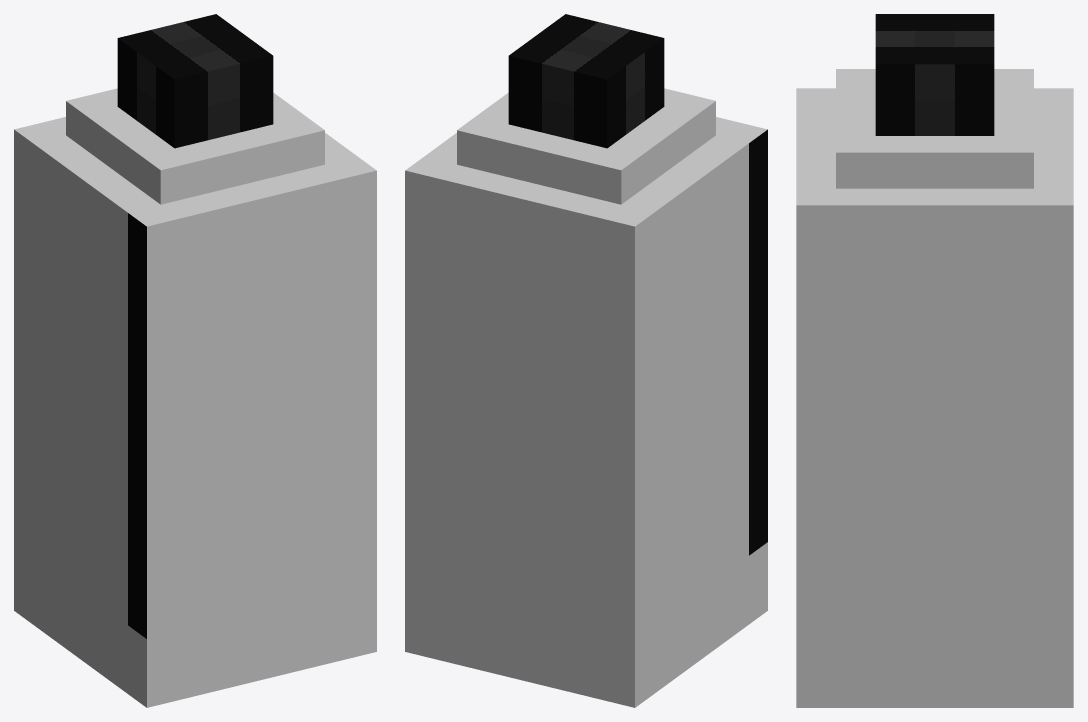
The model's file is soda.obj.
3 renders of one model, left to right at view 1: azimuth 30°, elevation 25°; view 2: azimuth 150°, elevation 25°; view 3: azimuth 270°, elevation 25°, orthographic. The views are drawn at different scales.
Visible parts, largest first — view 1: cube; view 2: cube; view 3: cube.
Part boxes in pixels (x1,y1,x2,y2): cube: [14, 14, 376, 707]; cube: [405, 14, 767, 707]; cube: [796, 14, 1073, 707].
Size of the model in its own units: 0.4375 by 1.06 by 0.4375.
